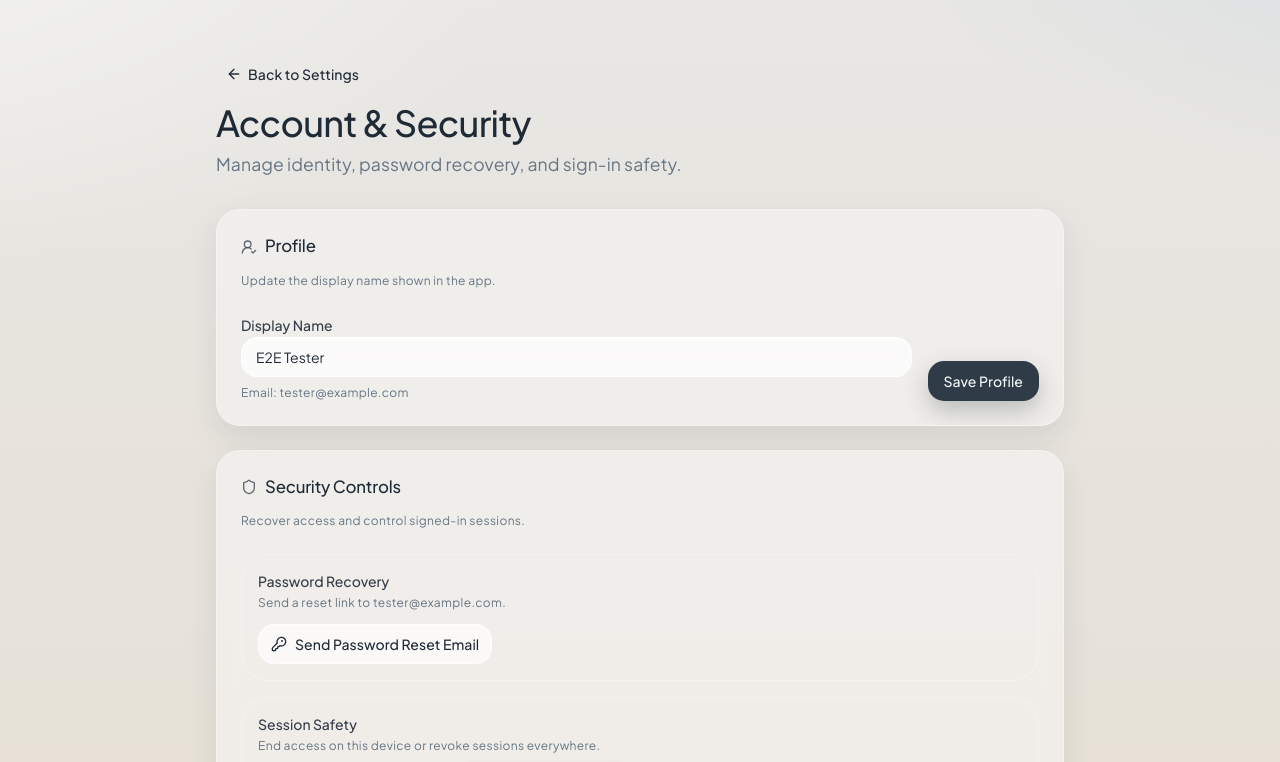
it: AccountSettingsPage › updates display name through Supabase auth.updateUser
Replace the text in the field labelled "Display Name" with "  New Calm Name  " at (576, 356), box [241,336,912,376]
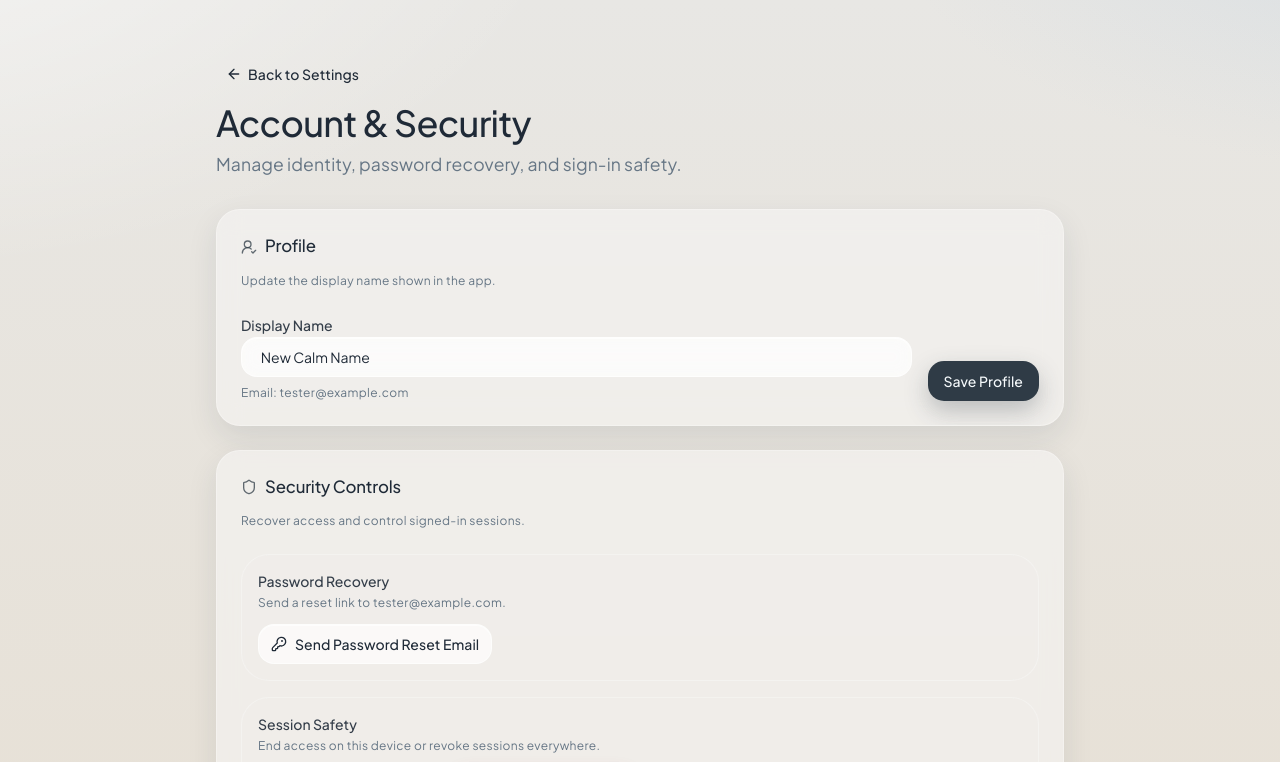
Click the button "Save Profile".
click(983, 381)  # box [928,361,1039,401]
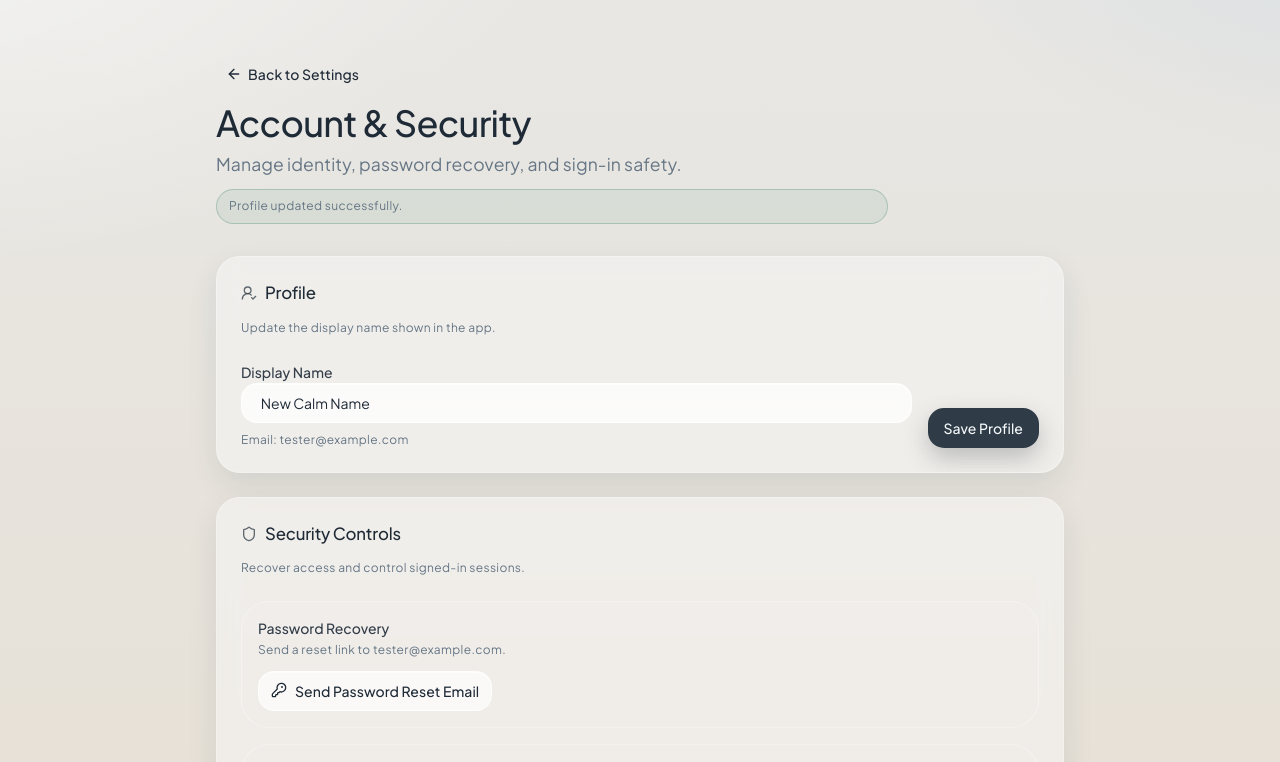
Expected: the text "Profile updated successfully." is shown, [229,198,403,213]
